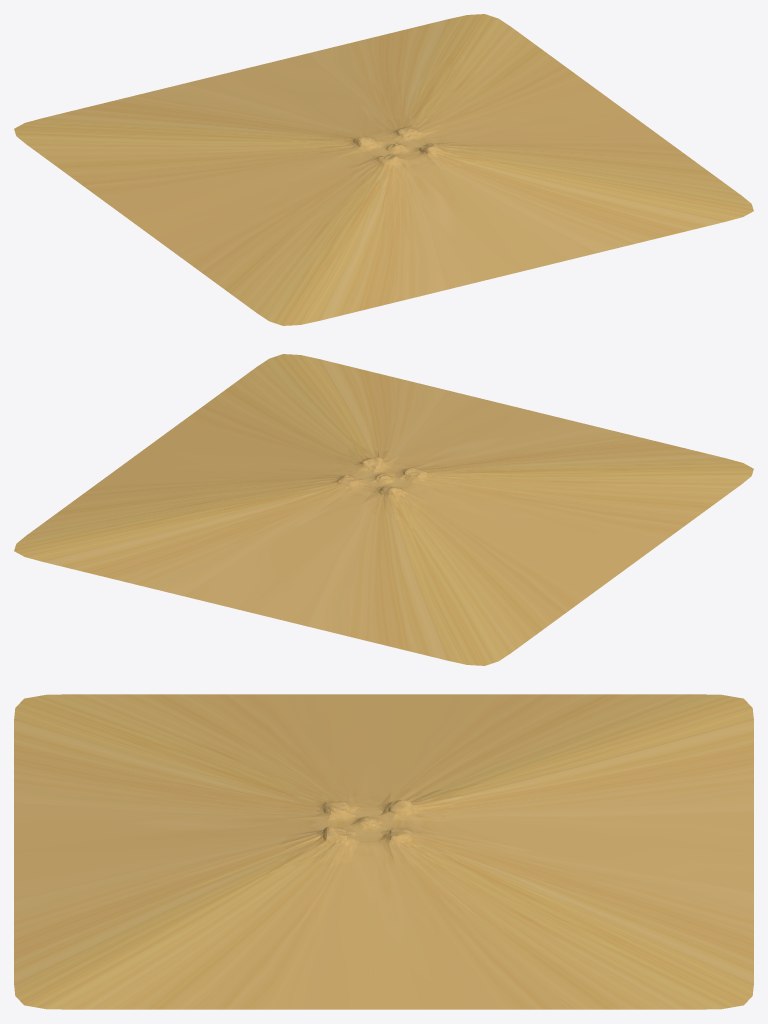
File: island_low_nice.obj
3 views of the same model, one above another, from view 1: azimuth 30°, elevation 25°; view 2: azimuth 150°, elevation 25°; view 3: azimuth 270°, elevation 25° (orthographic). The views are drawn at different scales.
Parts seen in each view (by area): view 1: Cube.005; view 2: Cube.005; view 3: Cube.005.
Boxes of the visible parts, box(x1,y1,x2,y2) form: Cube.005: box(14, 14, 753, 325); Cube.005: box(14, 354, 753, 665); Cube.005: box(14, 694, 753, 1009).
Size of the model in its own units: 7341 by 451 by 7276.
1 material, 1 textured.
